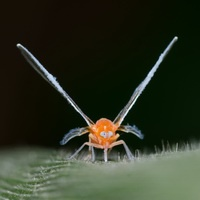insect: (17, 36, 177, 161)
